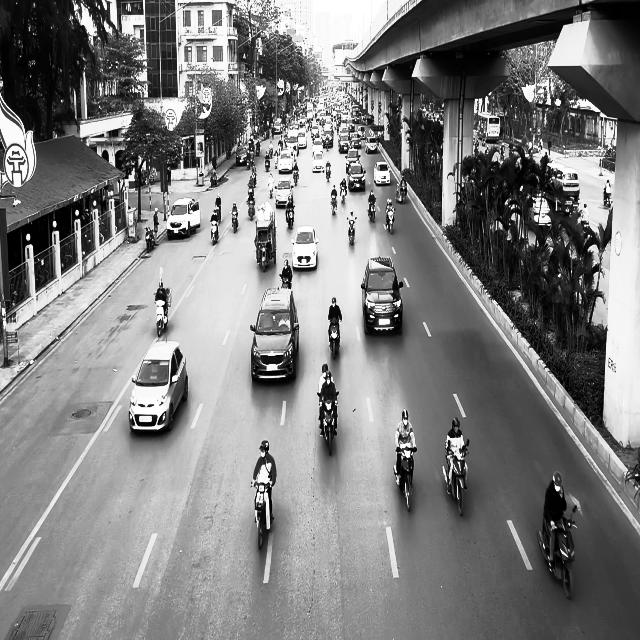bus: (477, 111, 502, 143)
car: (128, 339, 188, 434), (250, 286, 299, 382), (360, 255, 403, 335), (167, 197, 200, 239), (291, 225, 319, 271), (275, 176, 293, 208), (348, 162, 366, 191), (374, 161, 390, 185)
motorbike: (536, 509, 578, 599), (443, 438, 469, 516), (251, 478, 274, 550), (394, 446, 416, 512), (317, 391, 339, 455), (328, 317, 341, 359), (155, 298, 168, 336), (145, 226, 155, 252), (347, 217, 356, 245), (285, 202, 294, 228), (210, 219, 219, 245), (385, 209, 394, 234), (230, 210, 238, 233), (247, 198, 255, 220), (330, 194, 337, 215), (339, 184, 346, 203), (268, 180, 274, 199)
